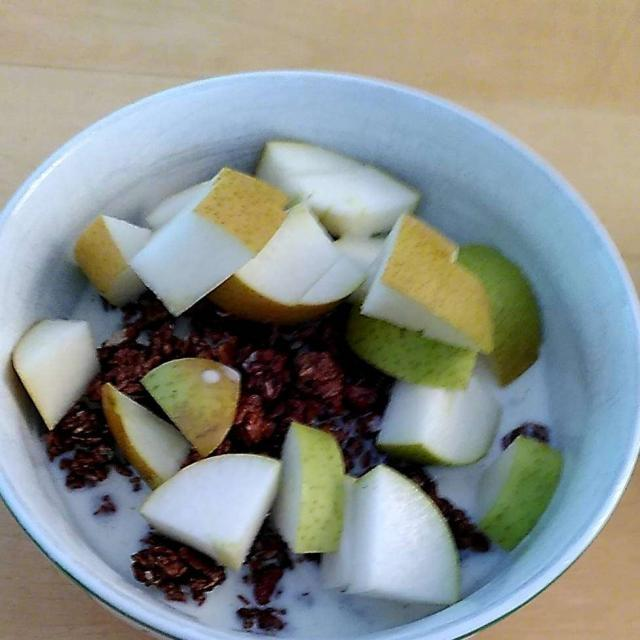milk: (289, 574, 359, 628)
pear: (4, 147, 556, 604)
